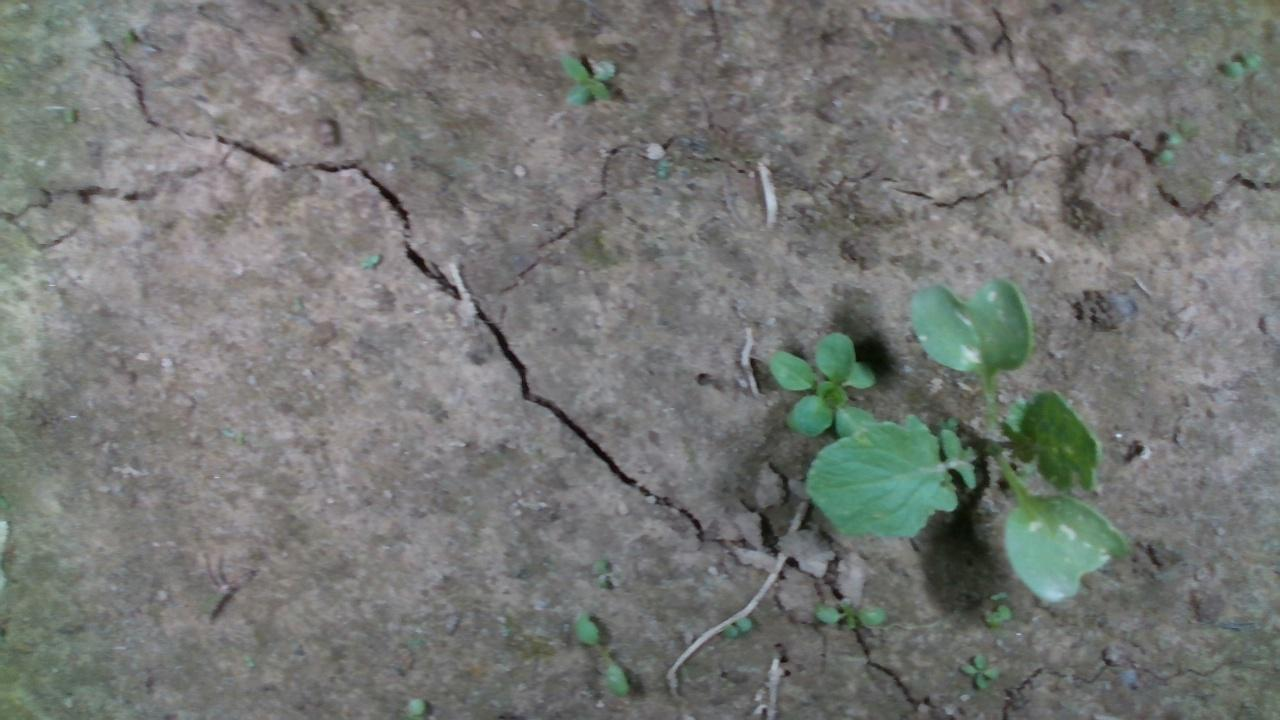weed: (573, 609, 629, 696), (558, 52, 617, 106), (814, 597, 886, 629), (958, 649, 1000, 689), (1220, 51, 1260, 79), (1158, 129, 1180, 164), (720, 614, 752, 638)
